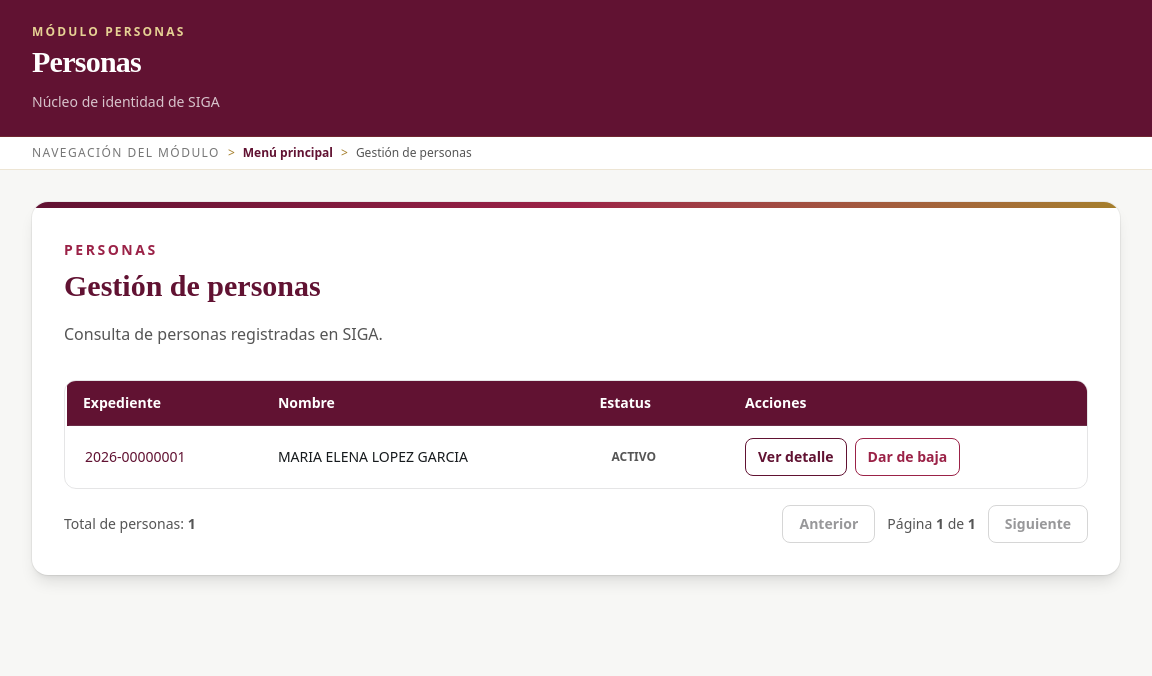
PersonasPageComponent › actualiza el detalle abierto cuando la persona es dada de baja
The image size is (1152, 676).
Click the button with test id "persona-view-detail" at (796, 457), box x1=745 y1=438 x2=847 y2=476
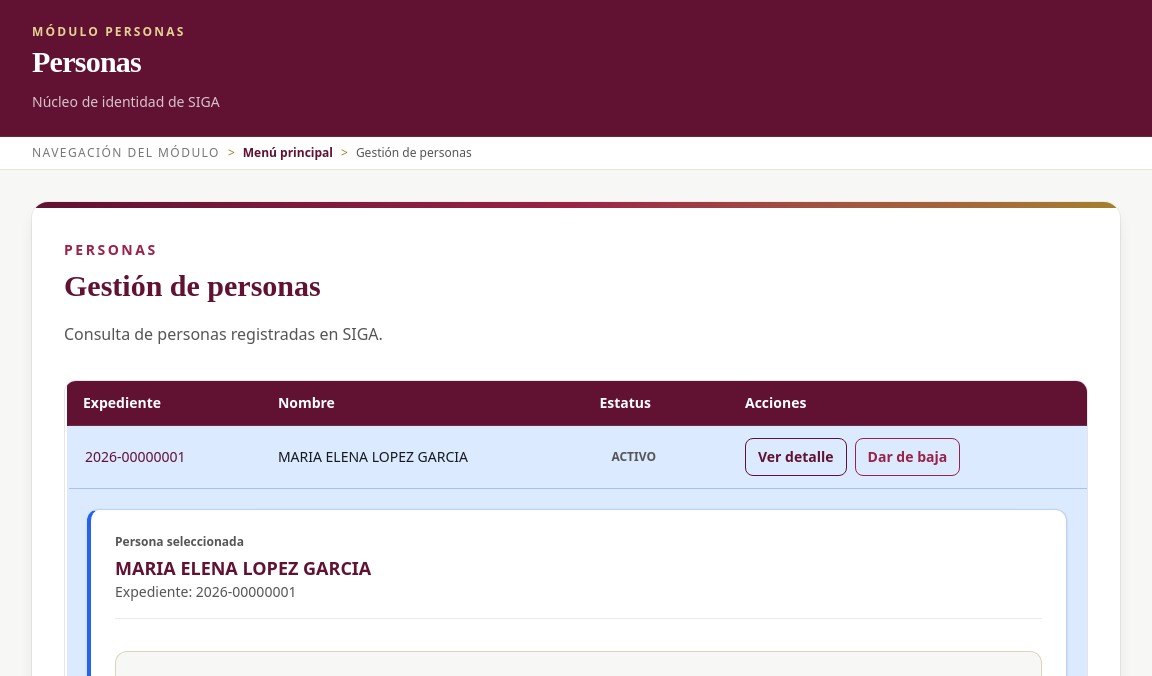
expect the 1st text "ACTIVO" is shown: met, box x1=611 y1=448 x2=656 y2=465
Click the button with test id "persona-withdraw" at (907, 457), box x1=855 y1=438 x2=960 y2=476
(page scrolled)
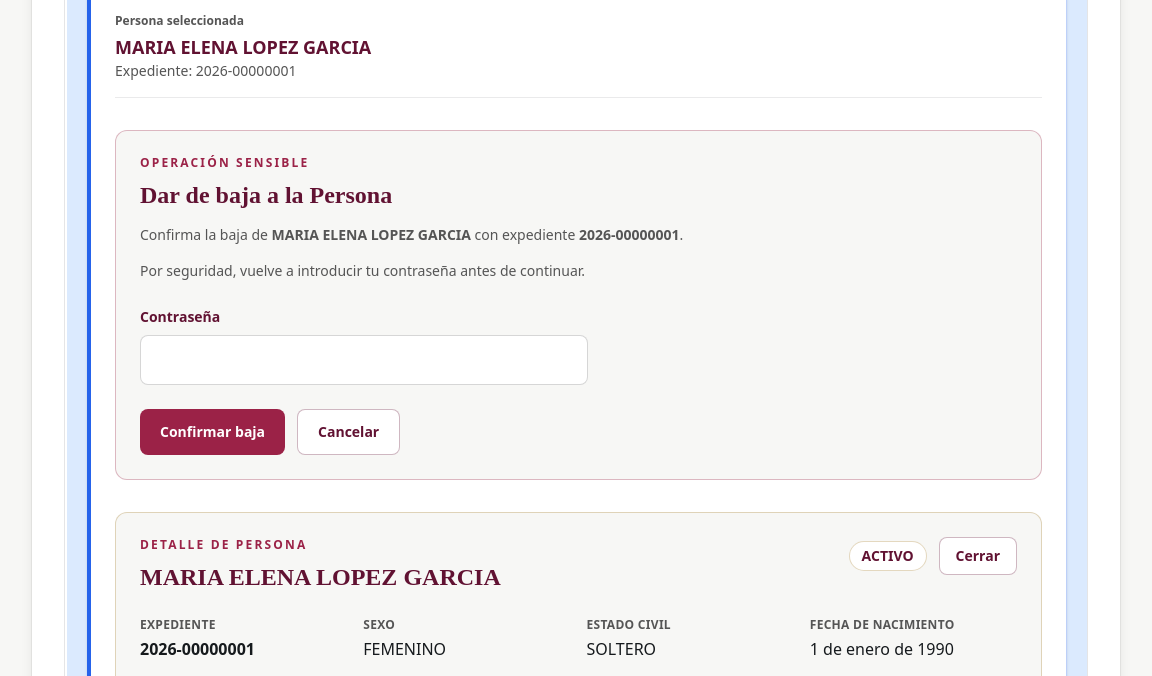
Type "contraseña-de-prueba" into the password field with test id "persona-withdraw-password" at (364, 360), box x1=140 y1=335 x2=588 y2=385
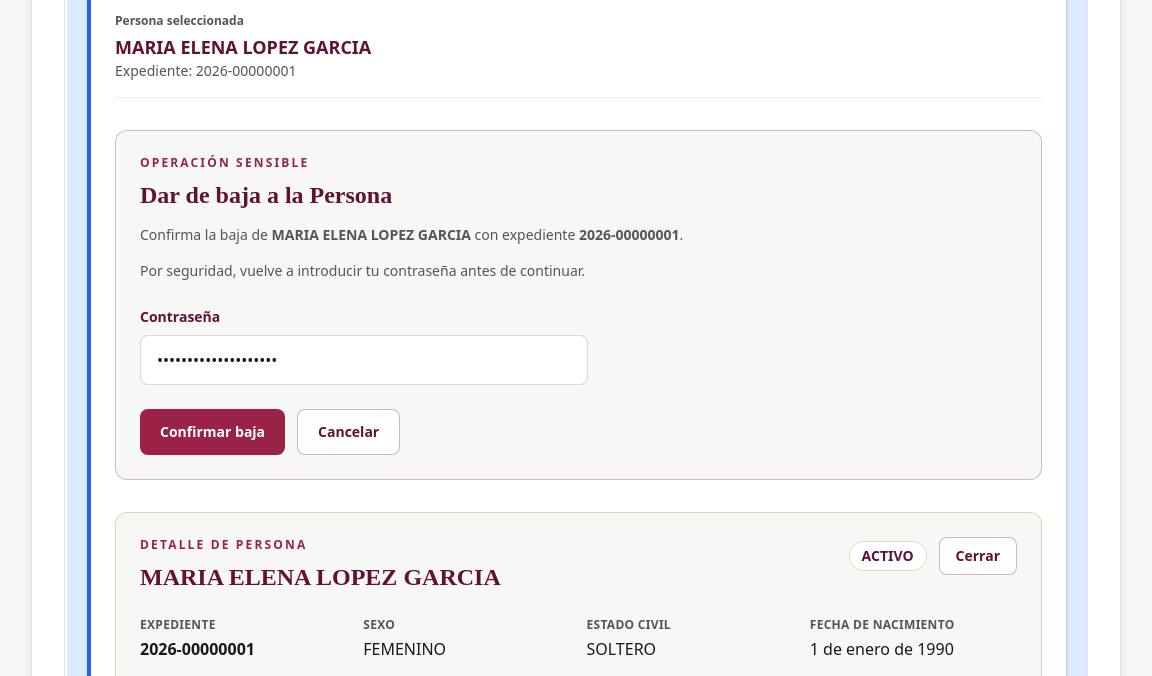
Click the button with test id "persona-withdraw-submit" at (213, 432), box x1=140 y1=409 x2=285 y2=455
(page scrolled)
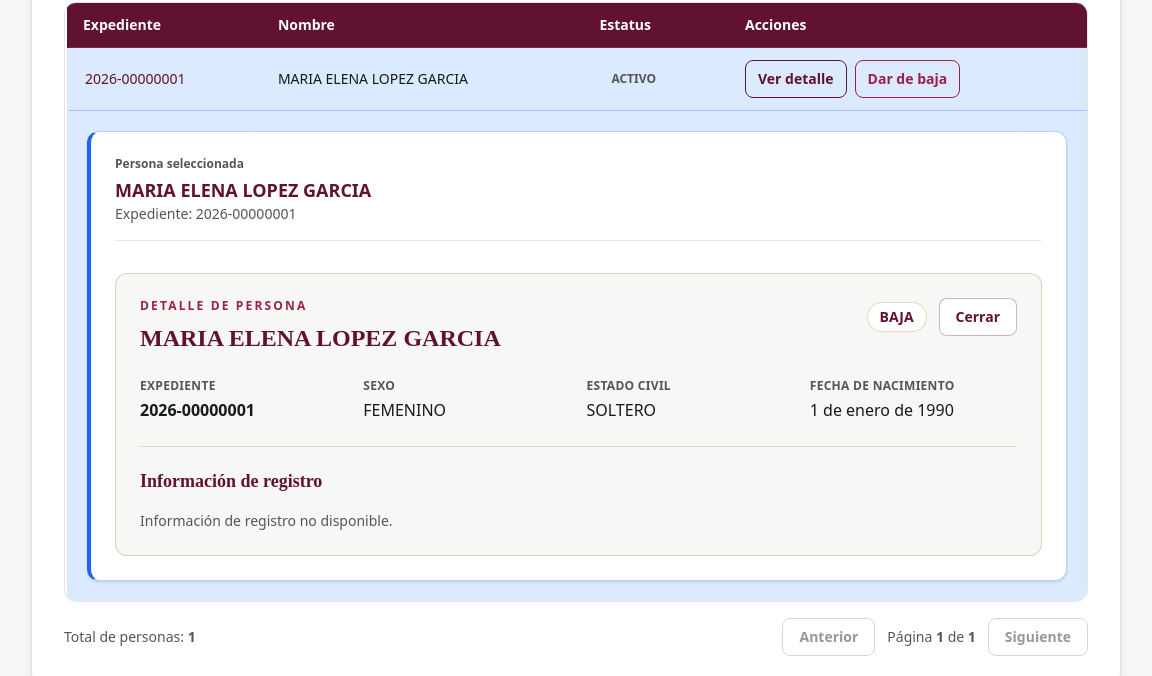
expect the text "BAJA" is shown: met, box x1=866 y1=302 x2=927 y2=332
expect the element with test id "persona-detail" shows "BAJA": met, box x1=880 y1=307 x2=914 y2=326
